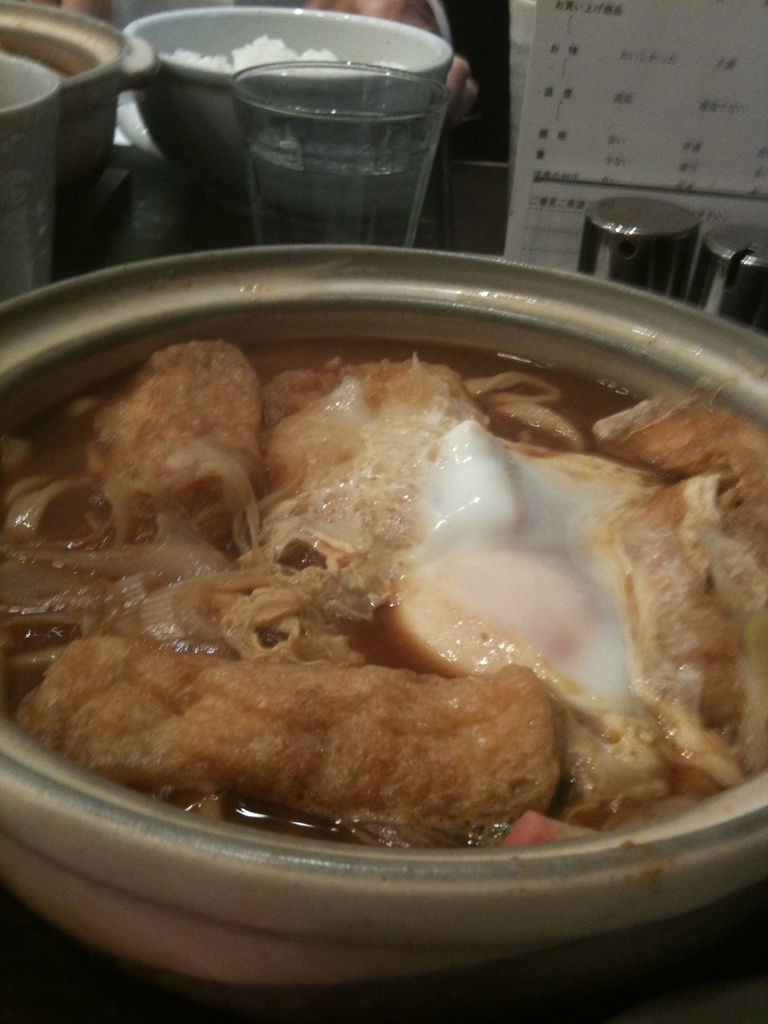person: (49, 0, 481, 131)
